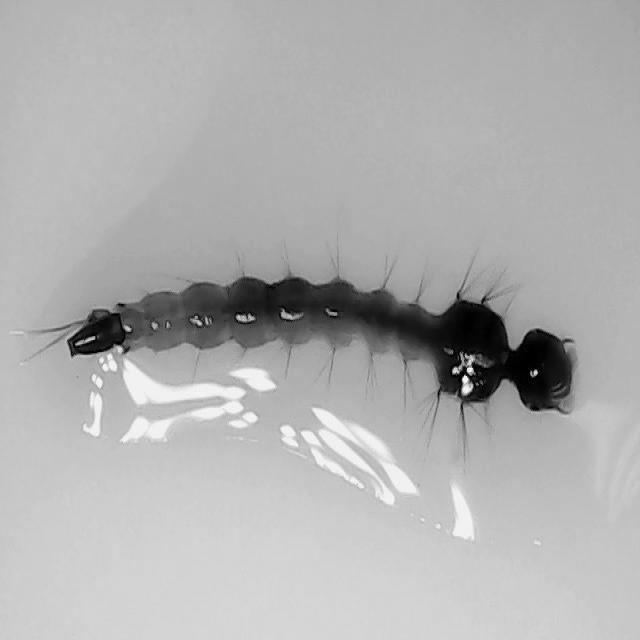larvas: (57, 275, 575, 408)
